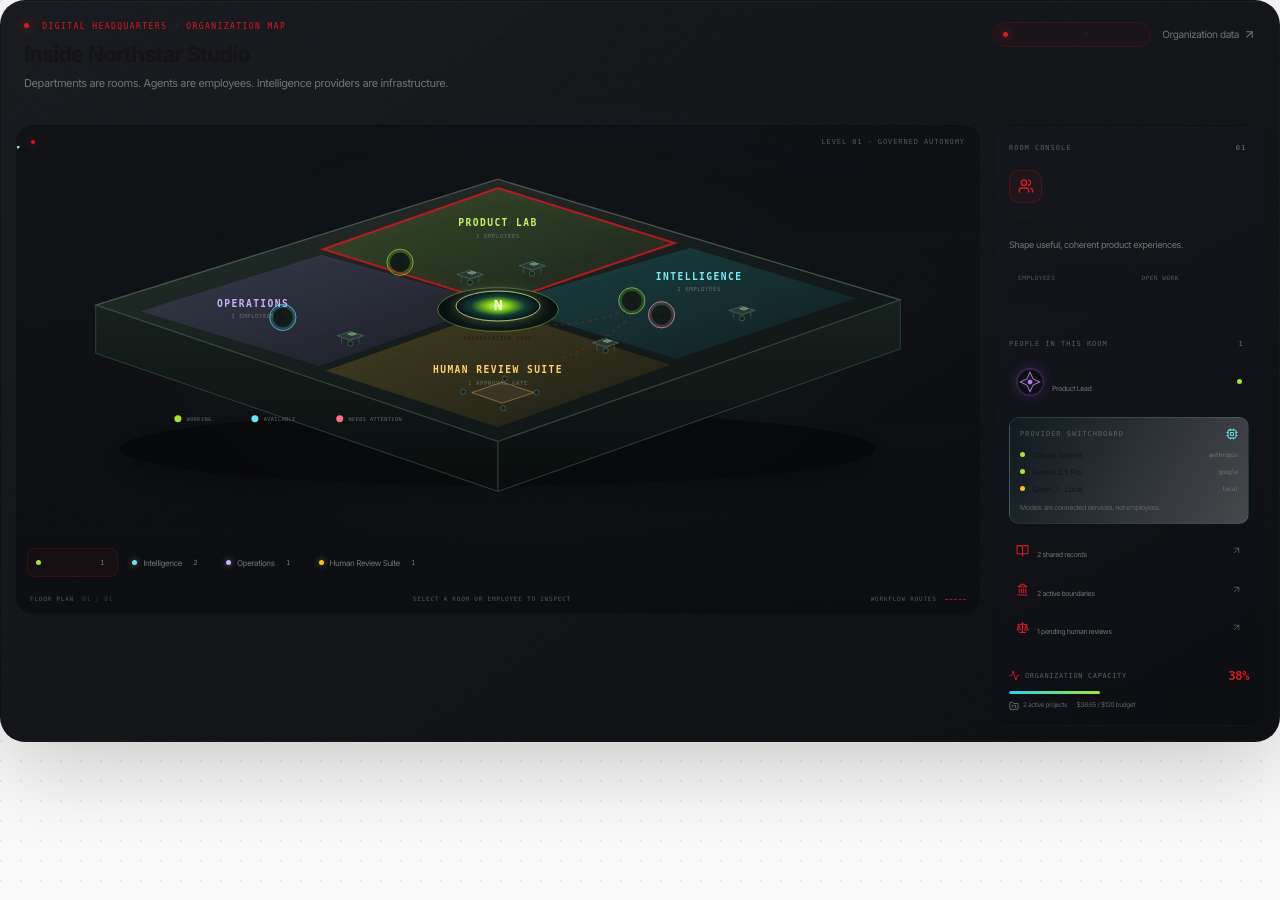
Scenario: OrganizationOffice › separates provider infrastructure from employees and exposes human review as a room
The image size is (1280, 900).
Expected: the text "Models are connected services, not employees." is shown, left=1020, top=503, right=1160, bottom=512
Click the button with aria-label "Select Human Review Suite" at (370, 562), box left=310, top=548, right=430, bottom=577
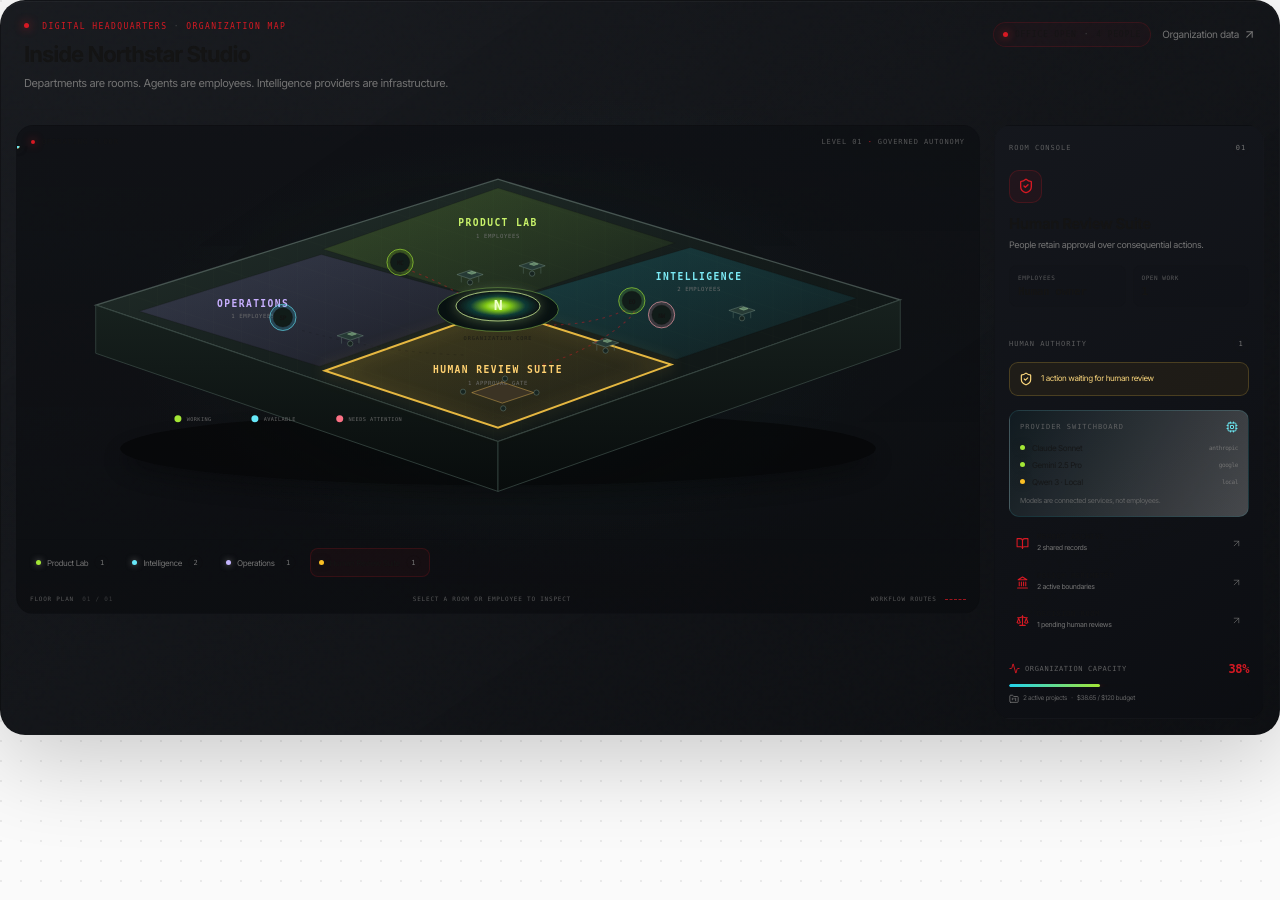
Expected: the text "1 action waiting for human review" is shown, left=1041, top=372, right=1154, bottom=384
Expected: the text "HUMAN AUTHORITY" is shown, left=1009, top=340, right=1087, bottom=348
